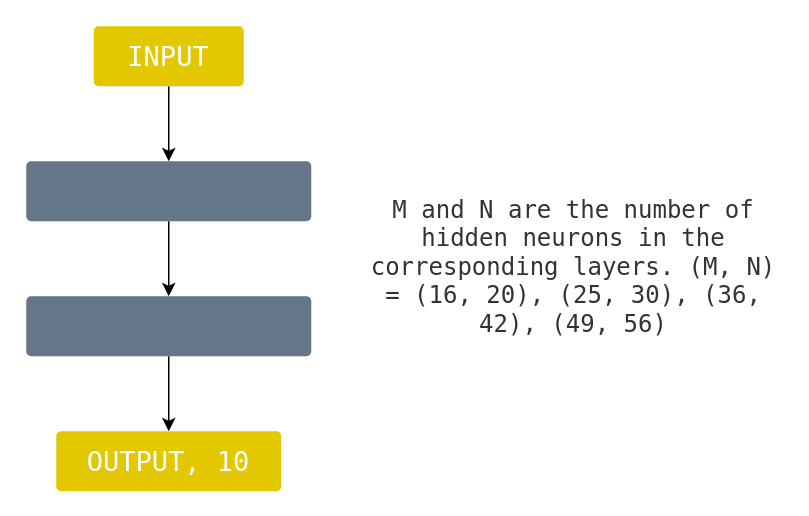
Image size: 809x516. Some labels were removed from this diagram. Each missing label, with the box of its shape:
LINEAR M: (26, 160, 310, 220)
LINEAR N: (26, 296, 310, 356)
